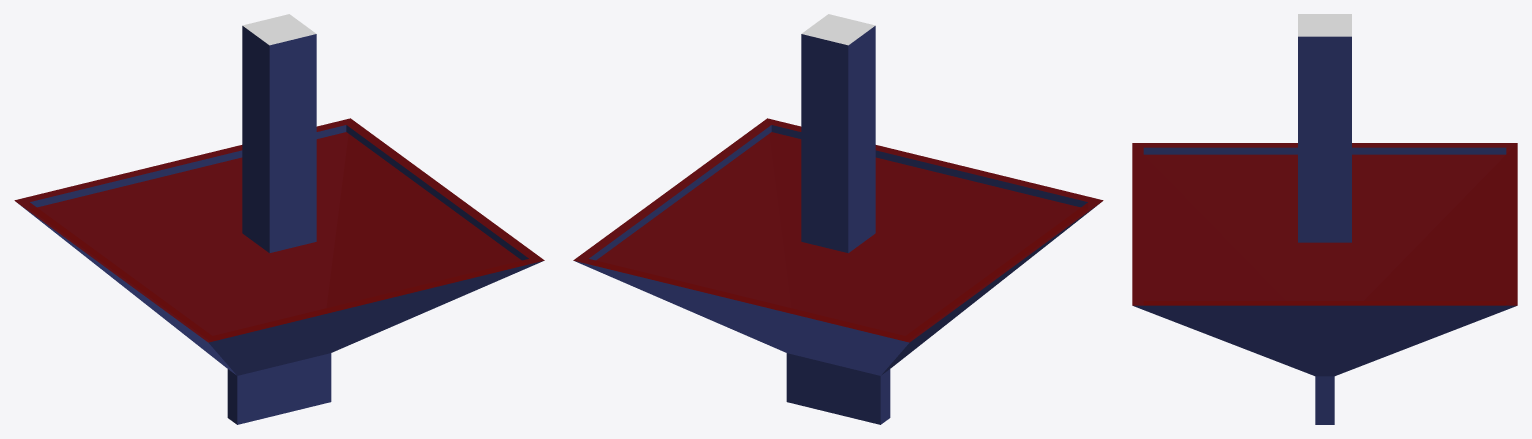
Rendered from SM_ISLA_2.fbx.
3 renders of one model, left to right at view 1: azimuth 30°, elevation 25°; view 2: azimuth 150°, elevation 25°; view 3: azimuth 270°, elevation 25°, orthographic.
Parts seen in each view (by area): view 1: pCube3; view 2: pCube3; view 3: pCube3.
Boxes of the visible parts, x1=… form: pCube3: x1=14, y1=14, x2=544, y2=424; pCube3: x1=573, y1=14, x2=1103, y2=424; pCube3: x1=1132, y1=14, x2=1517, y2=424.
Size of the model in its own units: 33.67 by 36.35 by 33.67.
